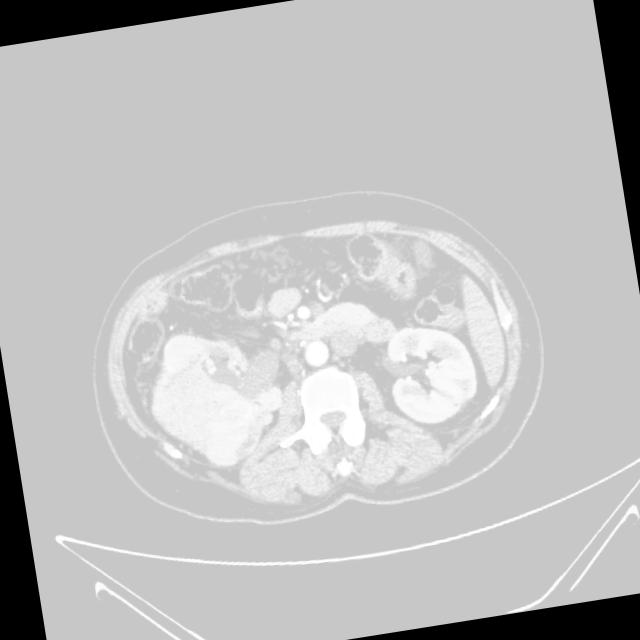TUMOR: (151, 227, 507, 417)
